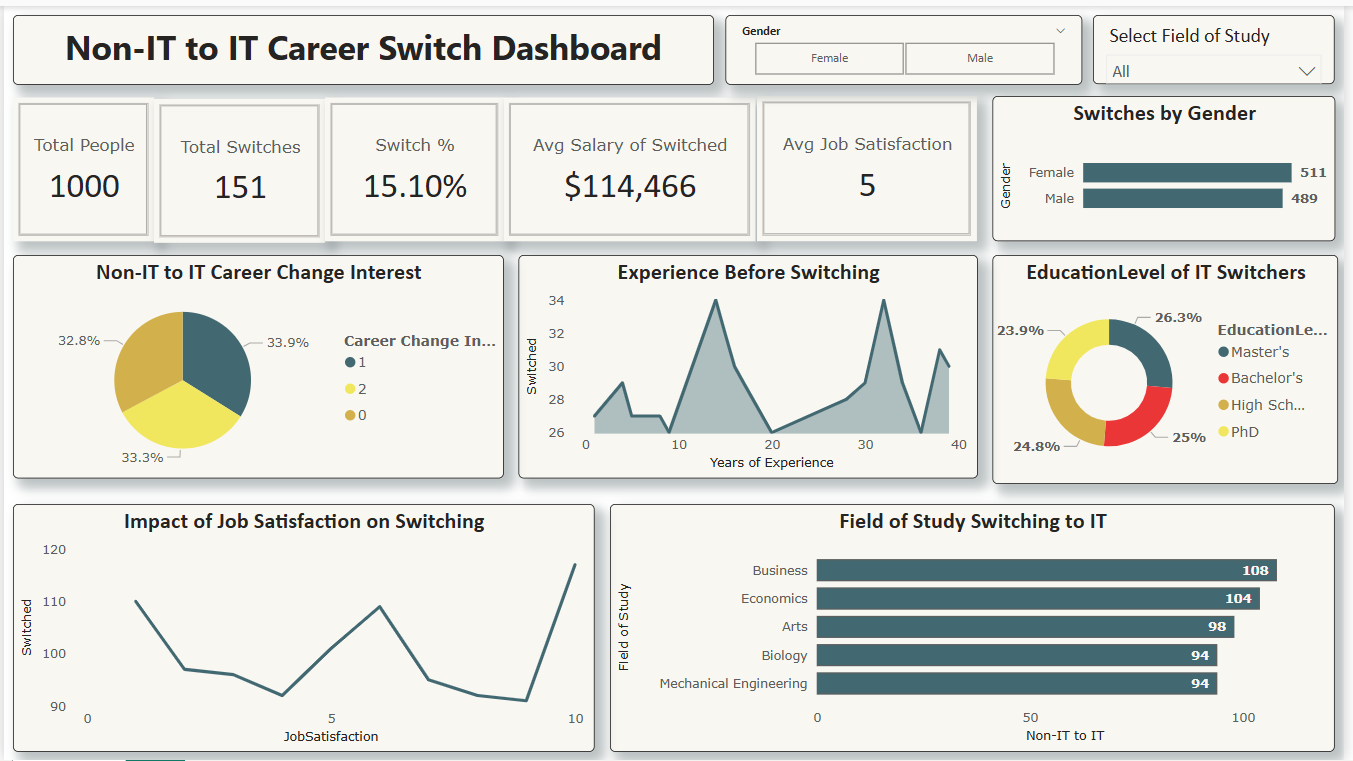

The dashboard page shown, as its layout file describes it:
{"tool":"powerbi","page":{"name":"Page 1","canvas":[1280,720],"ordinal":0},"visuals":[{"type":"textbox","box":[8,8,669.6,66.8],"z":0},{"type":"cardVisual","fields":{"Data":["Careerswitch.Total People"]},"box":[8.6,87.4,134.6,137.5],"z":1000},{"type":"cardVisual","fields":{"Data":["Careerswitch.Total Switches"]},"box":[143.2,88.8,163.3,137.5],"z":2000},{"type":"cardVisual","fields":{"Data":["Careerswitch.Switch Percentage"]},"box":[306.5,87.4,170.5,137.5],"z":3000},{"type":"cardVisual","fields":{"Data":["Careerswitch.Avg Salary Switched"]},"box":[477,87.4,240.6,137.5],"z":4000},{"type":"cardVisual","fields":{"Data":["Careerswitch.Avg Job Satisfaction Switched"]},"box":[719,85.9,210,138.4],"z":5000},{"type":"slicer","fields":{"Values":["Careerswitch.Gender"]},"box":[688.7,8,340.4,66.8],"z":6000},{"type":"slicer","fields":{"Values":["Careerswitch.FieldofStudy"]},"box":[1039.9,8.6,230.6,65.9],"z":7000},{"type":"clusteredBarChart","title":"Field of Study Switching to IT","fields":{"Category":["Careerswitch.FieldofStudy"],"Y":["CountNonNull(Careerswitch.NonITtoITSwitch)"]},"box":[578.7,475.6,691.8,236.3],"z":8000},{"type":"barChart","title":"Switches by Gender","fields":{"Category":["Careerswitch.Gender"],"Y":["CountNonNull(Careerswitch.NonITtoITSwitch)"]},"box":[943.2,85.9,327.7,138.4],"z":9000},{"type":"donutChart","title":"EducationLevel of IT Switchers","fields":{"Category":["Careerswitch.EducationLevel"],"Y":["CountNonNull(Careerswitch.NonITtoITSwitch)"]},"box":[943.3,238.3,330,218.3],"z":10000},{"type":"lineChart","title":"Impact of Job Satisfaction on Switching","fields":{"Category":["Careerswitch.JobSatisfaction"],"Y":["CountNonNull(Careerswitch.NonITtoITSwitch)"]},"box":[8.3,475,555,236.7],"z":11000},{"type":"stackedAreaChart","title":"Experience Before Switching","fields":{"Category":["Careerswitch.YearsofExperience"],"Y":["CountNonNull(Careerswitch.NonITtoITSwitch)"]},"box":[491.7,238.3,438.3,213.3],"z":12000},{"type":"pieChart","title":"Non-IT to IT Career Change Interest","fields":{"Y":["CountNonNull(Careerswitch.NonITtoITSwitch)"],"Category":["Careerswitch.CareerChangeEvents"]},"box":[8.3,238.3,468.3,213.3],"z":13000}]}

Visuals, with their boxes in screenshot pixels (x1, y1, x2, y2), scaled from the page's 1280x720 canvas onto the 1353x761 screenshot:
textbox: crop(8, 8, 716, 79)
cardVisual - Careerswitch.Total People: crop(9, 92, 151, 238)
cardVisual - Careerswitch.Total Switches: crop(151, 94, 324, 239)
cardVisual - Careerswitch.Switch Percentage: crop(324, 92, 504, 238)
cardVisual - Careerswitch.Avg Salary Switched: crop(504, 92, 759, 238)
cardVisual - Careerswitch.Avg Job Satisfaction Switched: crop(760, 91, 982, 237)
slicer - Careerswitch.Gender: crop(728, 8, 1088, 79)
slicer - Careerswitch.FieldofStudy: crop(1099, 9, 1343, 79)
"Field of Study Switching to IT" clusteredBarChart: crop(612, 503, 1343, 752)
"Switches by Gender" barChart: crop(997, 91, 1343, 237)
"EducationLevel of IT Switchers" donutChart: crop(997, 252, 1346, 483)
"Impact of Job Satisfaction on Switching" lineChart: crop(9, 502, 595, 752)
"Experience Before Switching" stackedAreaChart: crop(520, 252, 983, 477)
"Non-IT to IT Career Change Interest" pieChart: crop(9, 252, 504, 477)
